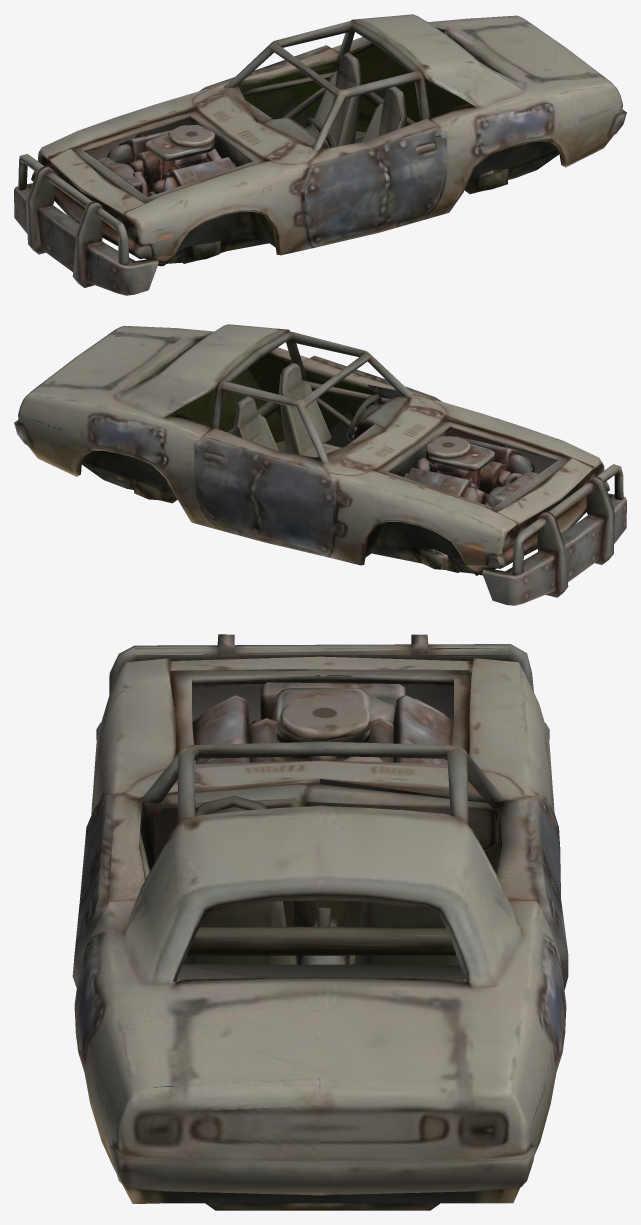
The model's file is car_m_body.glb.
3 views of the same model, one above another, from view 1: azimuth 30°, elevation 25°; view 2: azimuth 150°, elevation 25°; view 3: azimuth 270°, elevation 25° (orthographic). The views are drawn at different scales.
Visible parts, largest first — view 1: geometry_0; view 2: geometry_0; view 3: geometry_0.
Part boxes in pixels (box(x1,y1,x2,y2)): geometry_0: box(14, 14, 626, 295); geometry_0: box(14, 324, 626, 605); geometry_0: box(72, 634, 568, 1210).
Size of the model in its own units: 0.9497 by 0.2593 by 0.3872.
Materials: 1 (1 with a texture image).
